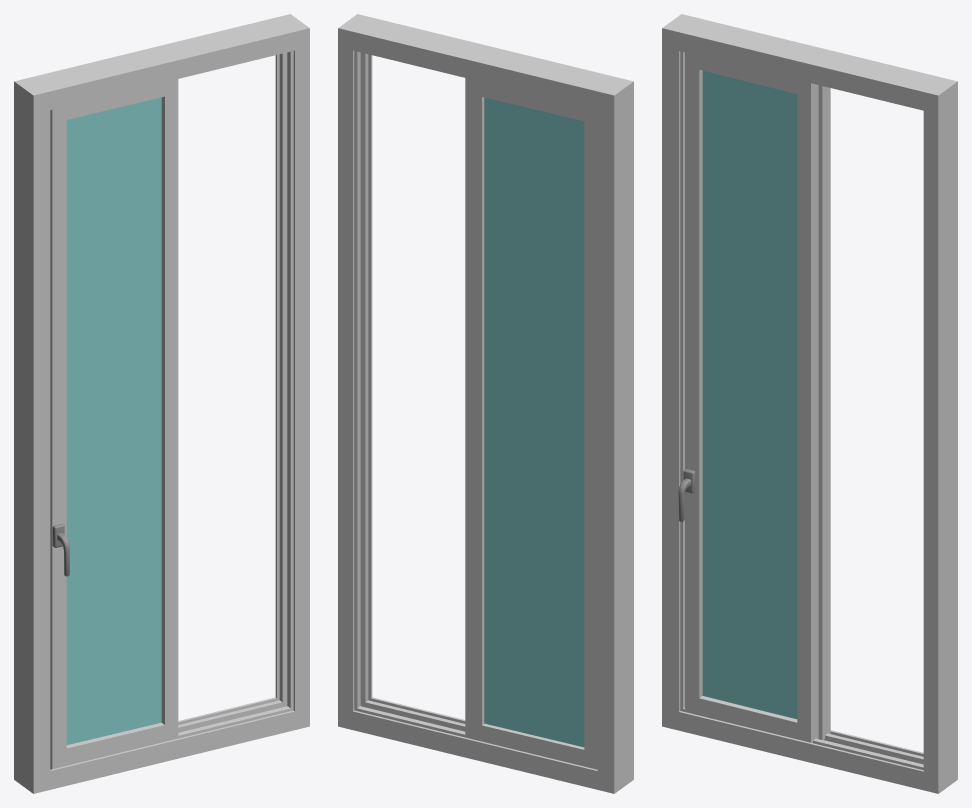
File: WindowKichen1.fbx
3 views of the same model, side by side, from view 1: azimuth 30°, elevation 25°; view 2: azimuth 150°, elevation 25°; view 3: azimuth 330°, elevation 25° (orthographic).
Visible parts, largest first — view 1: WindowRight_008, Box334, InLeft020; view 2: WindowRight_008, Box333, InLeft019; view 3: Box334, WindowRight_008, InLeft020, InLeft019, Handle041.
Boxes of the visible parts, left/top/right/bottom form: WindowRight_008: left=14, top=14, right=309, bottom=793; Box334: left=66, top=97, right=161, bottom=744; InLeft020: left=50, top=79, right=178, bottom=769; WindowRight_008: left=338, top=14, right=633, bottom=793; Box333: left=484, top=97, right=584, bottom=747; InLeft019: left=465, top=78, right=597, bottom=769; Box334: left=702, top=70, right=797, bottom=719; WindowRight_008: left=662, top=14, right=957, bottom=793; InLeft020: left=685, top=52, right=818, bottom=742; InLeft019: left=818, top=85, right=830, bottom=740; Handle041: left=678, top=469, right=695, bottom=521.
Size of the model in its own units: 45.49 by 110 by 7.89.
